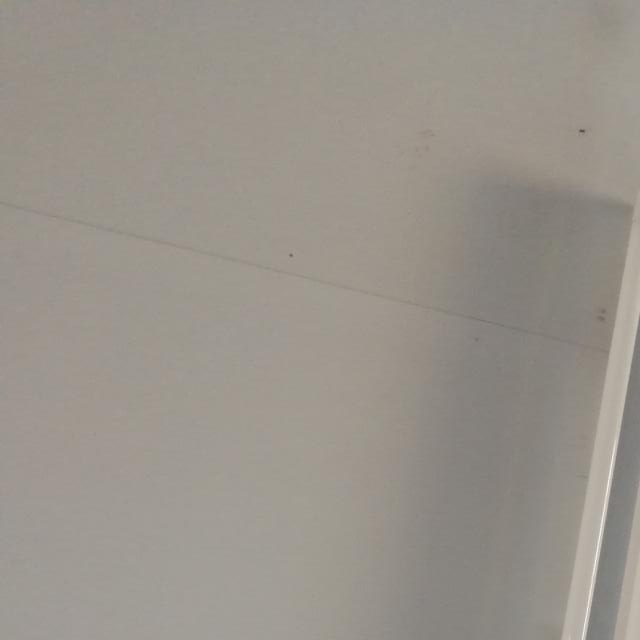fluorescent tube: (458, 175, 640, 640)
